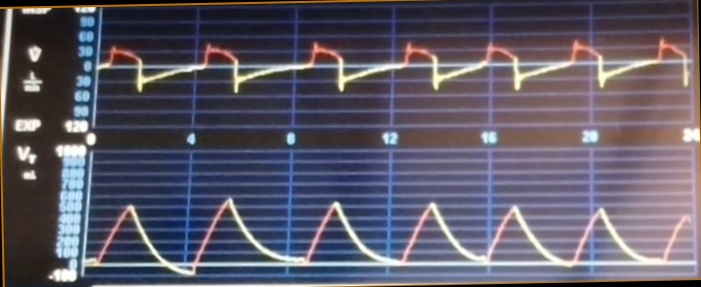Normal Flow: (101, 23, 692, 110)
Normal Volume: (90, 181, 691, 277)
